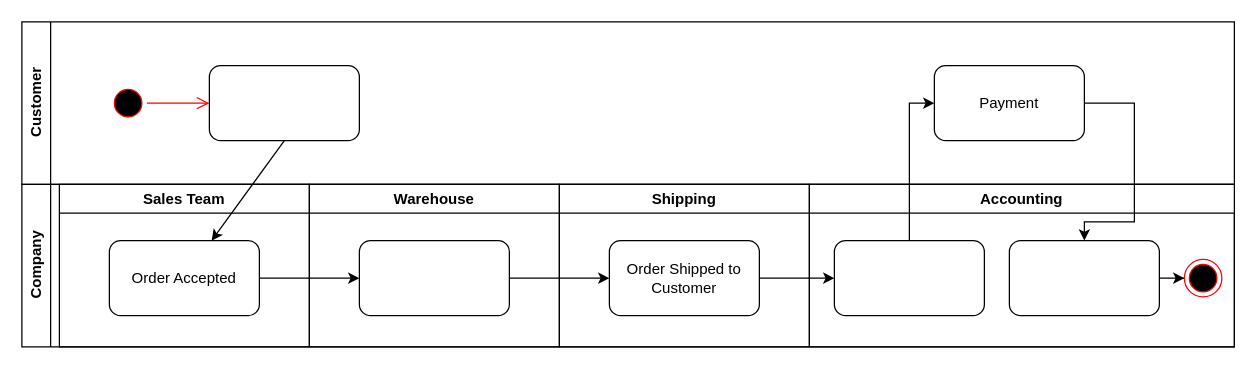
This 1256x369 diagram has some shape labels left out. Each missing label, with the centre of its shape:
"Invoice Generated" belongs at pixel 908 277.
"Order Packed" belongs at pixel 433 277.
"Order Placed" belongs at pixel 283 102.
"Payment Processed and Recorded" belongs at pixel 1083 277.
